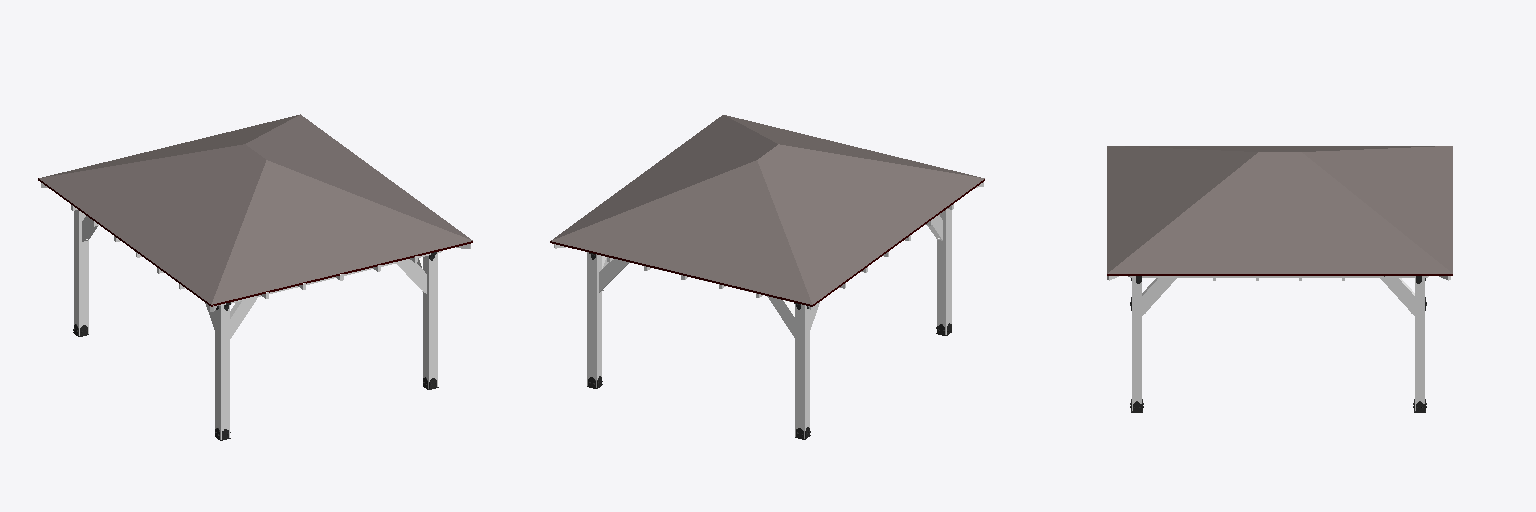
File: saratoga-14x16-flush.obj
3 renders of one model, left to right at view 1: azimuth 30°, elevation 25°; view 2: azimuth 150°, elevation 25°; view 3: azimuth 270°, elevation 25°, orthographic.
Parts seen in each view (by area): view 1: Mesh228 shingles roof Group1 Model, Mesh179 Group73 Component_92_4 Group2 Group1 Model, Mesh81 Group45 Component_92_2 Group2 Group1 Model, Mesh130 Group59 Component_92_3 Group2 Group1 Model, Mesh229 roof Group1 Model; view 2: Mesh228 shingles roof Group1 Model, Mesh130 Group59 Component_92_3 Group2 Group1 Model, Mesh1 Group4 Component_92_1 Group3 Group2 Group1 Model, Mesh179 Group73 Component_92_4 Group2 Group1 Model, Mesh229 roof Group1 Model; view 3: Mesh228 shingles roof Group1 Model, Mesh1 Group4 Component_92_1 Group3 Group2 Group1 Model, Mesh81 Group45 Component_92_2 Group2 Group1 Model, Mesh229 roof Group1 Model, Mesh125 Component_91_4 Component_92_2 Group2 Group1 Model, Mesh45 Component_91_2 Component_92_1 Group3 Group2 Group1 Model.
Boxes of the visible parts, <box> form: Mesh228 shingles roof Group1 Model: <box>39,114,472,304</box>; Mesh179 Group73 Component_92_4 Group2 Group1 Model: <box>215,305,229,439</box>; Mesh81 Group45 Component_92_2 Group2 Group1 Model: <box>423,253,437,388</box>; Mesh130 Group59 Component_92_3 Group2 Group1 Model: <box>74,210,88,335</box>; Mesh229 roof Group1 Model: <box>38,178,472,306</box>; Mesh228 shingles roof Group1 Model: <box>551,115,984,304</box>; Mesh130 Group59 Component_92_3 Group2 Group1 Model: <box>795,304,809,438</box>; Mesh1 Group4 Component_92_1 Group3 Group2 Group1 Model: <box>587,252,601,387</box>; Mesh179 Group73 Component_92_4 Group2 Group1 Model: <box>937,209,951,334</box>; Mesh229 roof Group1 Model: <box>550,179,984,306</box>; Mesh228 shingles roof Group1 Model: <box>1107,146,1452,273</box>; Mesh1 Group4 Component_92_1 Group3 Group2 Group1 Model: <box>1415,278,1424,410</box>; Mesh81 Group45 Component_92_2 Group2 Group1 Model: <box>1132,278,1141,410</box>; Mesh229 roof Group1 Model: <box>1107,274,1452,275</box>; Mesh125 Component_91_4 Component_92_2 Group2 Group1 Model: <box>1142,278,1176,315</box>; Mesh45 Component_91_2 Component_92_1 Group3 Group2 Group1 Model: <box>1380,278,1414,315</box>.
Size of the model in its own units: 169 by 128 by 193.